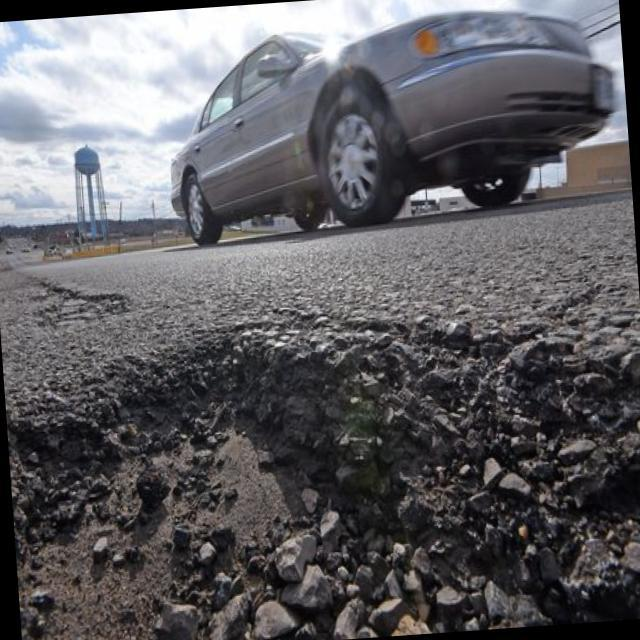Pothole: (0, 276, 640, 640), (24, 257, 140, 341)
